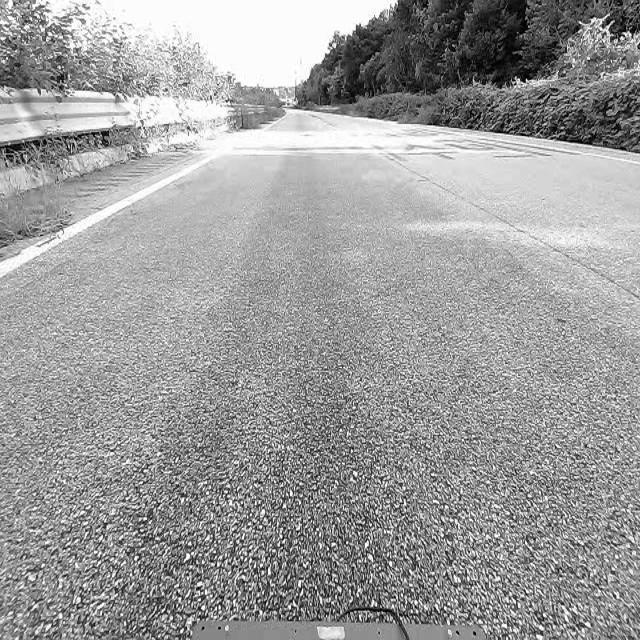Lane: (0, 142, 236, 285), (0, 148, 227, 279)
